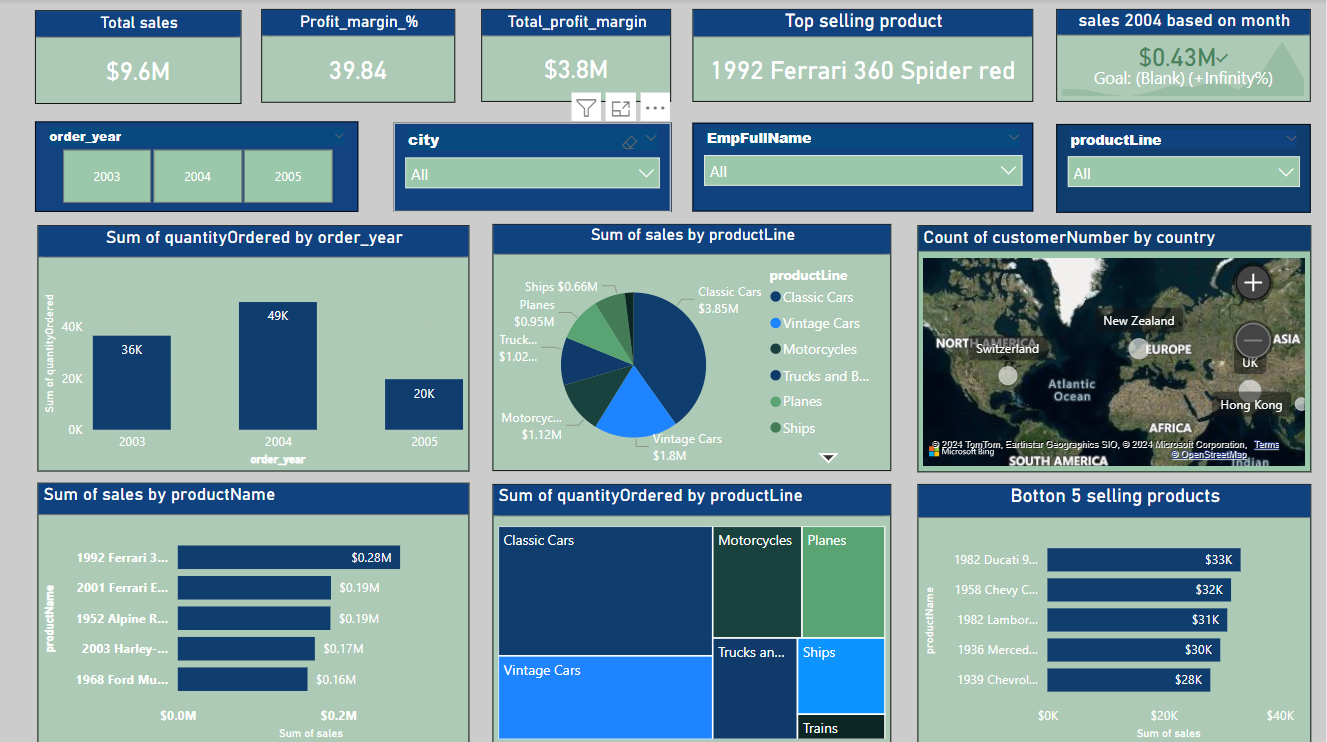

The dashboard page shown, as its layout file describes it:
{"tool":"powerbi","page":{"name":"Page 1","canvas":[1280,720],"ordinal":0},"visuals":[{"type":"card","title":"Total_profit_margin","fields":{"Values":["order details.total_profit"]},"box":[464.7,9.8,183.4,89.3],"z":0},{"type":"card","title":"Top selling product","fields":{"Values":["order details.MostOrderedProduct"]},"box":[668.9,9.8,328.9,89.3],"z":1000},{"type":"barChart","fields":{"Category":["products.productName"],"Y":["order details.sales"]},"box":[35.9,466.8,417.1,252.7],"z":2000},{"type":"pieChart","fields":{"Category":["productlines.productLine"],"Y":["order details.sales"]},"box":[475.7,217.7,385.2,238.5],"z":3000},{"type":"slicer","title":"order_year","fields":{"Values":["orders.order_year"]},"box":[34.2,118.6,311.8,86.8],"z":4000},{"type":"kpi","title":"sales 2004 based on month","fields":{"TrendLine":["orders.Month Name"],"Indicator":["orders.sales_2004"],"Goal":["orders.sales_2005"]},"box":[1019.8,9.8,245.8,89.3],"z":5000},{"type":"columnChart","fields":{"Y":["order details.quantityOrdered"],"Category":["orders.order_year"]},"box":[35.9,218.2,417.1,237.5],"z":6000},{"type":"card","title":"Profit_margin_%","fields":{"Values":["orders.profit_margin_%"]},"box":[251.9,9.8,187.1,90.5],"z":7000},{"type":"card","title":"Total sales","fields":{"Values":["order details.sales"]},"box":[34.2,11,199.3,90.5],"z":8000},{"type":"slicer","title":"city","fields":{"Values":["customers.city"]},"box":[380.3,119.8,267.8,85.6],"z":9000},{"type":"slicer","title":"EmpFullName","fields":{"Values":["customers.fullName"]},"box":[668.9,119.8,328.9,85.6],"z":10000},{"type":"slicer","title":"ProductsLine","fields":{"Values":["productlines.productLine"]},"box":[1019.8,121.1,245.8,85.6],"z":11000},{"type":"treemap","fields":{"Group":["productlines.productLine"],"Values":["order details.quantityOrdered"]},"box":[475.7,468.3,385.2,251.9],"z":12000},{"type":"barChart","title":"Botton 5 selling products","fields":{"Category":["products.productName"],"Y":["order details.sales"]},"box":[885,468,380,252],"z":13000},{"type":"map","fields":{"Category":["customers.country"],"Size":["customers.customerNumber"]},"box":[885,218,380,238],"z":14000}]}

Visuals, with their boxes in screenshot pixels (x1, y1, x2, y2), scaled from the page's 1280x720 canvas onto the 1327x742 screenshot:
"Total_profit_margin" card: [left=482, top=10, right=672, bottom=102]
"Top selling product" card: [left=693, top=10, right=1034, bottom=102]
barChart - products.productName x order details.sales: [left=37, top=481, right=470, bottom=741]
pieChart - productlines.productLine x order details.sales: [left=493, top=224, right=893, bottom=470]
"order_year" slicer: [left=35, top=122, right=359, bottom=212]
"sales 2004 based on month" kpi: [left=1057, top=10, right=1312, bottom=102]
columnChart - order details.quantityOrdered x orders.order_year: [left=37, top=225, right=470, bottom=470]
"Profit_margin_%" card: [left=261, top=10, right=455, bottom=103]
"Total sales" card: [left=35, top=11, right=242, bottom=105]
"city" slicer: [left=394, top=123, right=672, bottom=212]
"EmpFullName" slicer: [left=693, top=123, right=1034, bottom=212]
"ProductsLine" slicer: [left=1057, top=125, right=1312, bottom=213]
treemap - productlines.productLine x order details.quantityOrdered: [left=493, top=483, right=893, bottom=741]
"Botton 5 selling products" barChart: [left=917, top=482, right=1311, bottom=741]
map - customers.country x customers.customerNumber: [left=917, top=225, right=1311, bottom=470]
